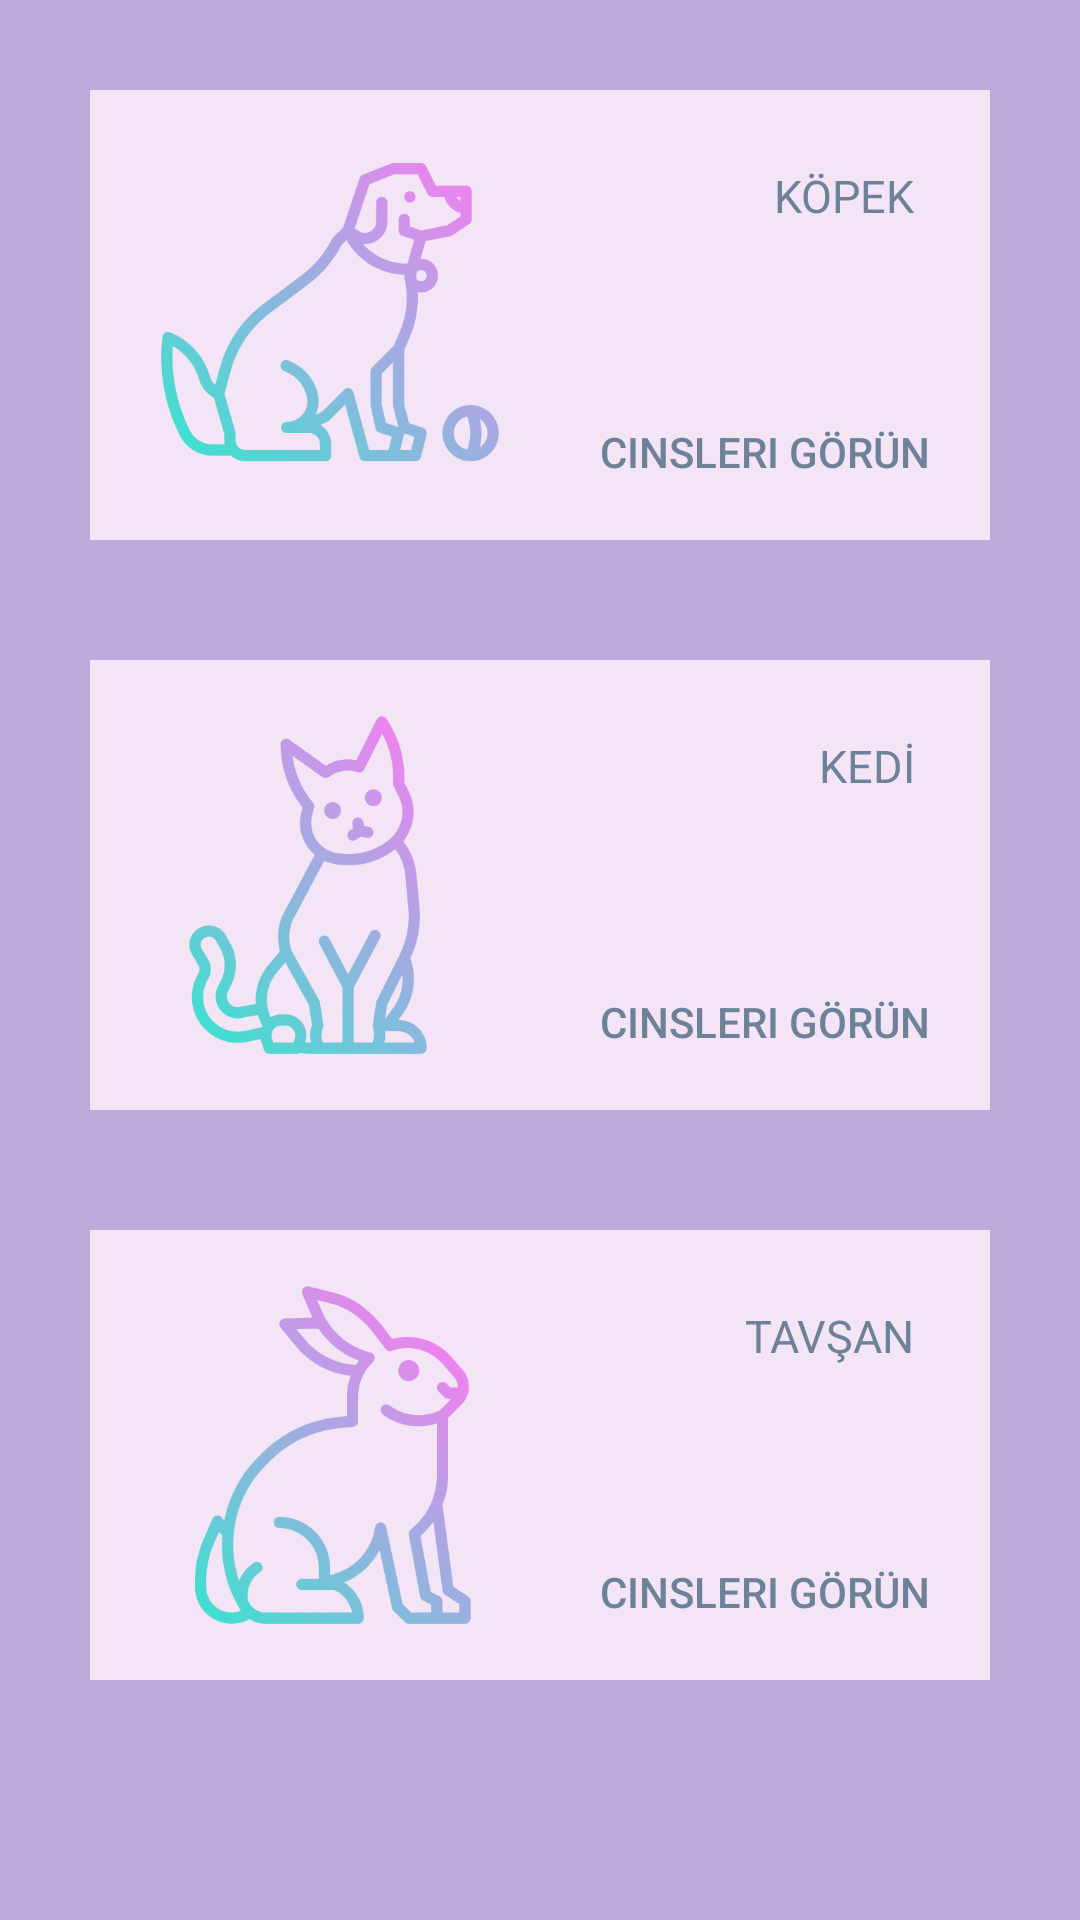

Screen size 1080x1920. Icon name, then its center in pixels as [x,y]:
kedi: [308,885]
tavsan: [333,1455]
